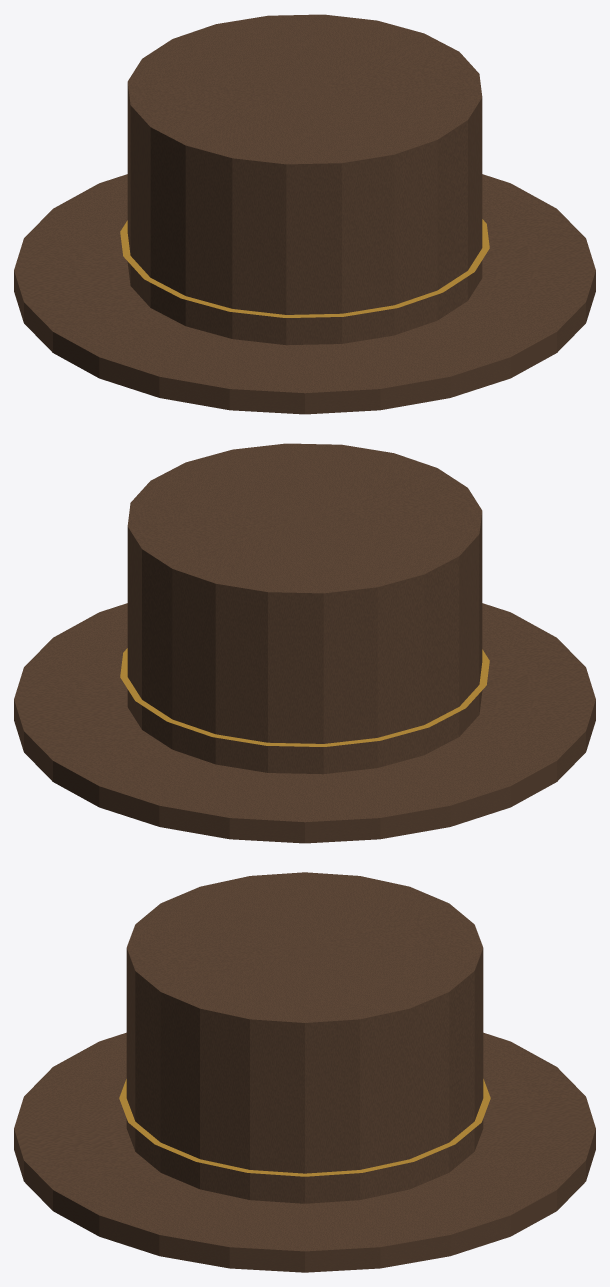
The model's file is field_brim.gltf.
3 views of the same model, one above another, from view 1: azimuth 30°, elevation 25°; view 2: azimuth 150°, elevation 25°; view 3: azimuth 270°, elevation 25° (orthographic).
Parts seen in each view (by area): view 1: Field Brim Hat; view 2: Field Brim Hat; view 3: Field Brim Hat.
Part boxes in pixels (x1,y1,x2,y2): Field Brim Hat: (14, 14, 595, 414); Field Brim Hat: (14, 443, 595, 843); Field Brim Hat: (14, 872, 595, 1272).
Bounding box in the file's own units: 0.62 × 0.2375 × 0.62.
Materials: 2 (2 with a texture image).
